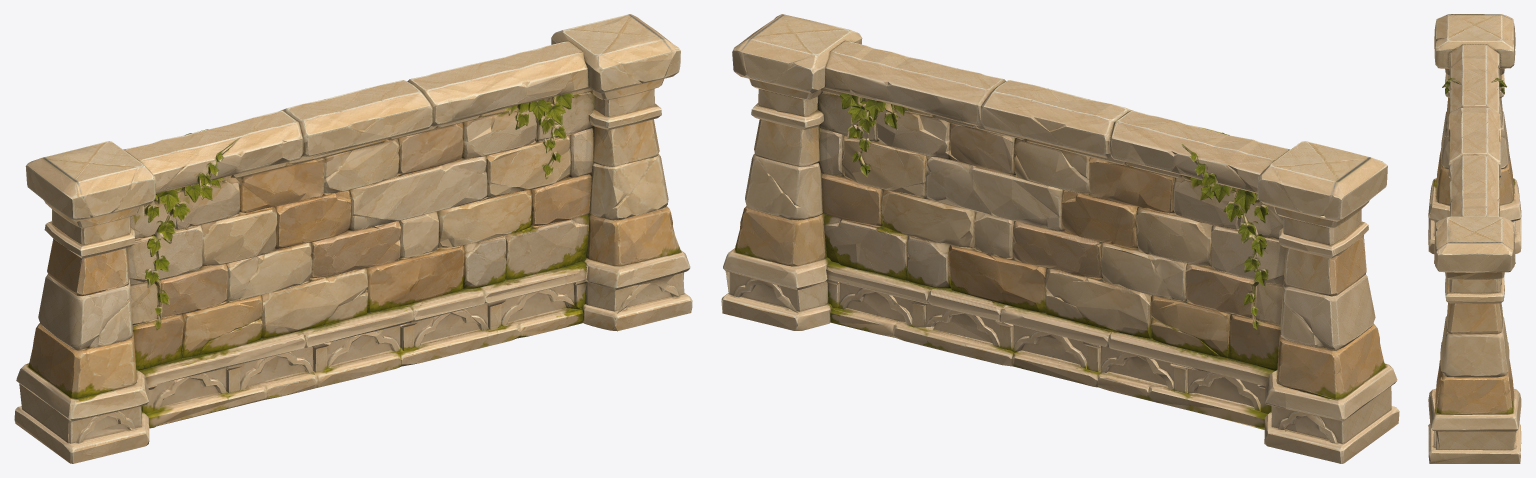
The model's file is iso-retaining.glb.
The picture shows the model from 3 angles, left to right: view 1: azimuth 30°, elevation 25°; view 2: azimuth 150°, elevation 25°; view 3: azimuth 270°, elevation 25°; orthographic projection. The views are drawn at different scales.
Visible parts, largest first — view 1: Mesh_0; view 2: Mesh_0; view 3: Mesh_0.
Part boxes in pixels (bbox=[...]): Mesh_0: bbox=[14, 14, 692, 463]; Mesh_0: bbox=[721, 14, 1399, 463]; Mesh_0: bbox=[1428, 14, 1521, 463].
Bounding box in the file's own units: 1.9 × 0.7896 × 0.3092.
1 material, 1 textured.
